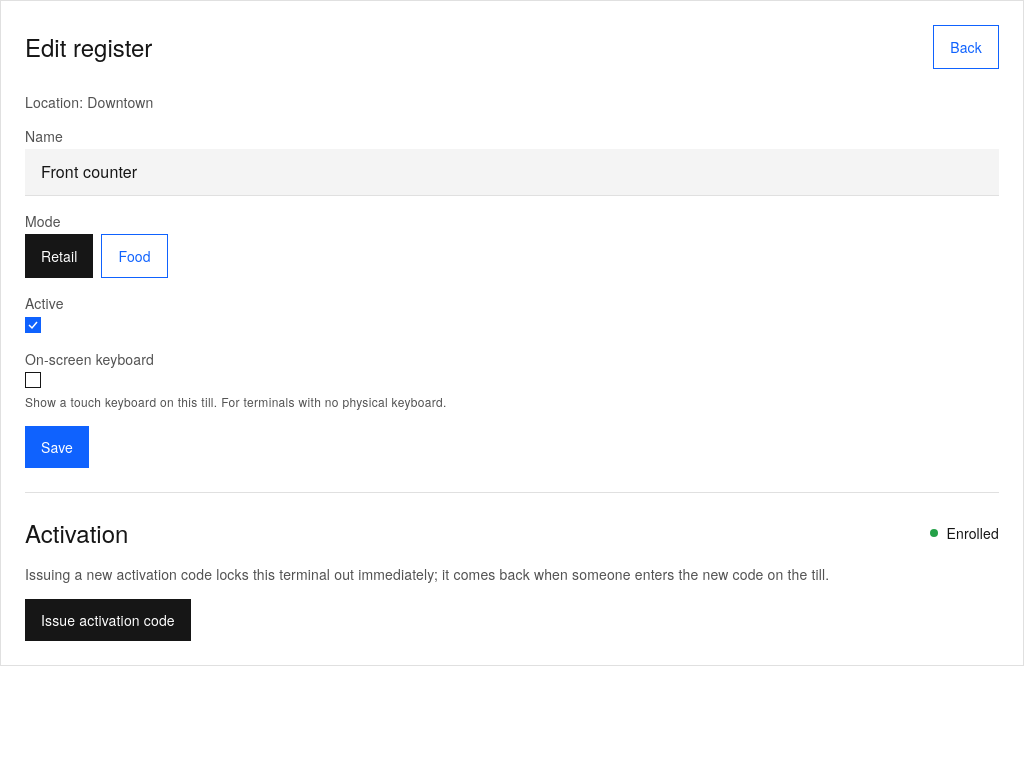
Test: RegisterEditor › cancelling the deactivate ConfirmDialog blocks the save
The image size is (1024, 768).
Step 1. Click the checkbox named "active" below "Active" → point(33, 325), box [25,317,41,333]
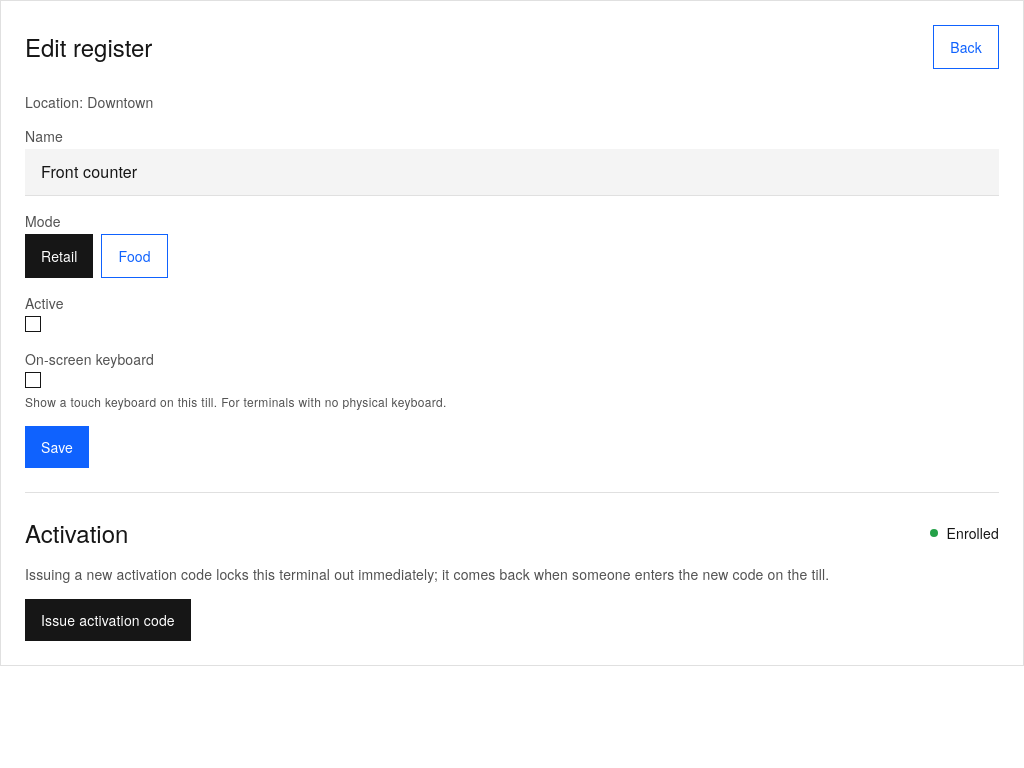
Step 2. Click the button "Save" → point(57, 447), box [25,426,89,468]
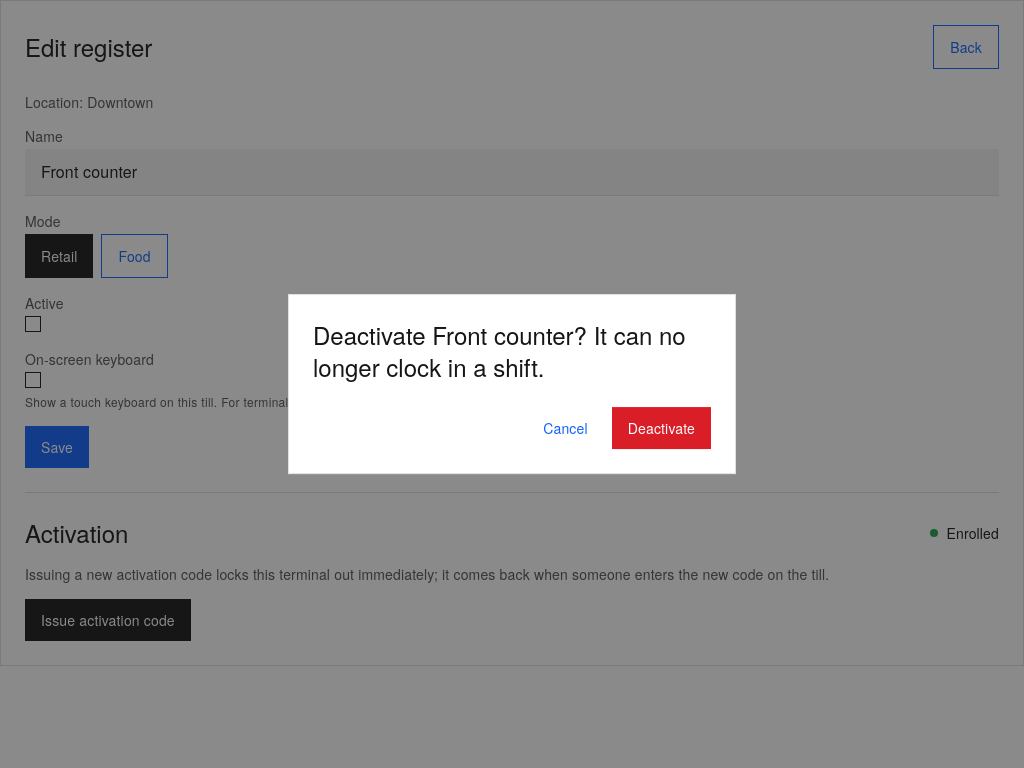
Expected: the heading "Deactivate Front counter? It can no longer clock in a shift." is shown, [313,319,711,383]
Step 3. Click the button "Cancel" → point(565, 428), box [527,407,604,449]
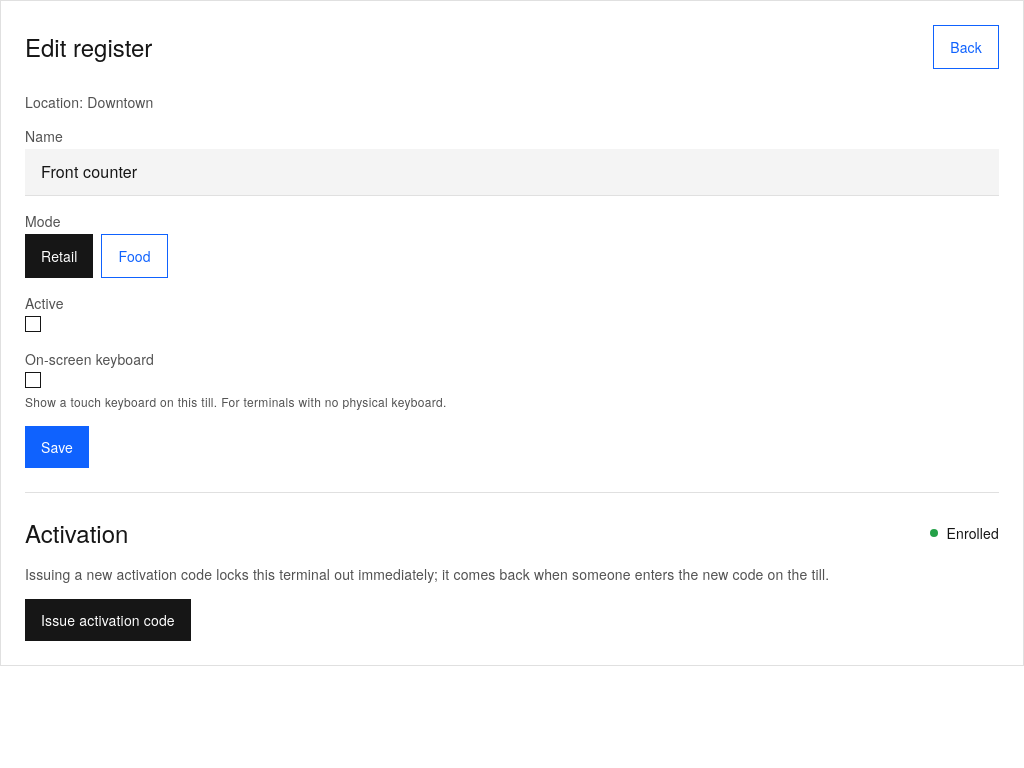
Expected: the dialog is gone
